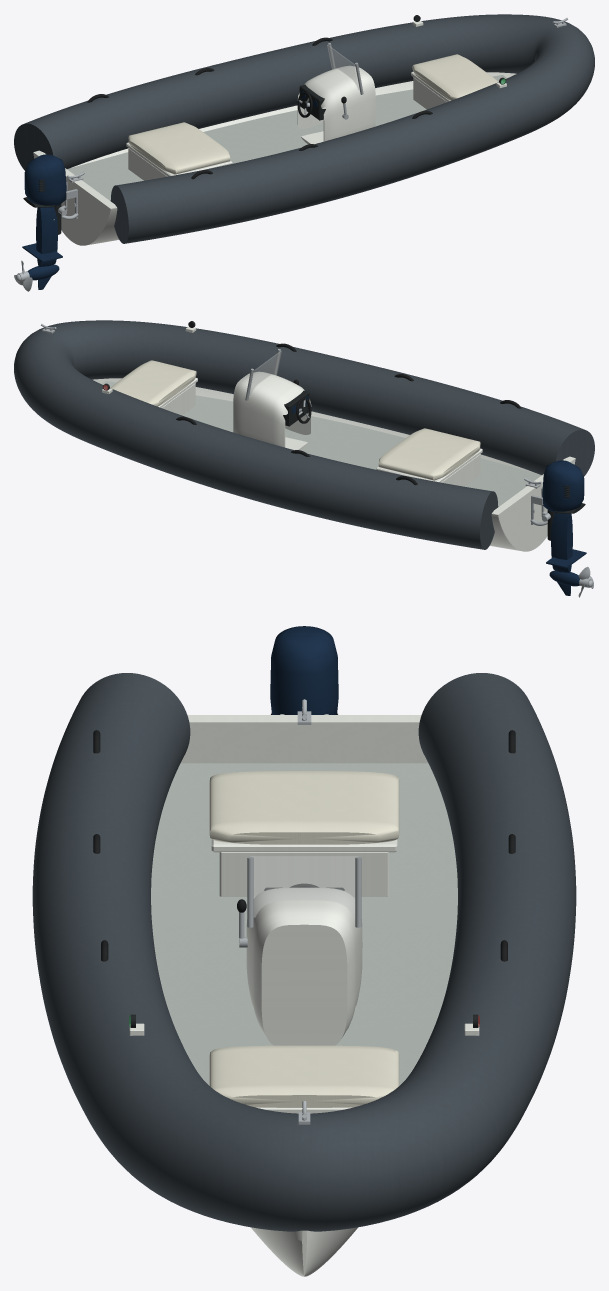
File: innerscene_rib.glb
3 views of the same model, one above another, from view 1: azimuth 30°, elevation 25°; view 2: azimuth 150°, elevation 25°; view 3: azimuth 270°, elevation 25° (orthographic). The views are drawn at different scales.
Visible parts, largest first — view 1: RIB closed inflated U collar, Cockpit profiled structural floor, RIB centre helm hollow shaped console casing, RIB bench-1500 shaped vinyl cushion, RIB hull-profiled reinforced transom, RIB bench1380 shaped vinyl cushion, RIB outboard shaped closed powerhead cowling, RIB finite rigid V-round hull, RIB outboard tapered driveshaft leg, RIB bench-1500 closed locker plinth, RIB bench1380 closed locker plinth, RIB centre helm finite transparent windscreen (+1 smaller); view 2: RIB closed inflated U collar, Cockpit profiled structural floor, RIB centre helm hollow shaped console casing, RIB bench-1500 shaped vinyl cushion, RIB hull-profiled reinforced transom, RIB bench1380 shaped vinyl cushion, RIB outboard shaped closed powerhead cowling, RIB finite rigid V-round hull, RIB outboard tapered driveshaft leg, RIB bench-1500 closed locker plinth, RIB bench1380 closed locker plinth, RIB centre helm finite transparent windscreen (+1 smaller); view 3: RIB closed inflated U collar, Cockpit profiled structural floor, RIB centre helm hollow shaped console casing, RIB bench-1500 shaped vinyl cushion, RIB hull-profiled reinforced transom, RIB bench1380 shaped vinyl cushion, RIB bench-1500 closed locker plinth, RIB outboard shaped closed powerhead cowling, RIB centre helm finite transparent windscreen, RIB finite rigid V-round hull, RIB bench-1500 finite seat pan.
Part boxes in pixels (x1,y1,x2,y2): RIB closed inflated U collar: (14,14,594,243); Cockpit profiled structural floor: (67,75,506,200); RIB centre helm hollow shaped console casing: (297,65,375,144); RIB bench-1500 shaped vinyl cushion: (128,122,230,174); RIB hull-profiled reinforced transom: (33,150,116,245); RIB bench1380 shaped vinyl cushion: (412,54,498,100); RIB outboard shaped closed powerhead cowling: (24,154,66,205); RIB finite rigid V-round hull: (37,72,516,244); RIB outboard tapered driveshaft leg: (36,207,57,266); RIB bench-1500 closed locker plinth: (128,148,167,180); RIB bench1380 closed locker plinth: (413,77,446,109); RIB centre helm finite transparent windscreen: (327,45,359,90); RIB closed inflated U collar: (14,320,594,549); Cockpit profiled structural floor: (102,381,541,506); RIB centre helm hollow shaped console casing: (233,371,311,450); RIB bench-1500 shaped vinyl cushion: (378,428,480,480); RIB hull-profiled reinforced transom: (492,456,575,551); RIB bench1380 shaped vinyl cushion: (110,360,196,406); RIB outboard shaped closed powerhead cowling: (542,460,584,511); RIB finite rigid V-round hull: (92,378,571,550); RIB outboard tapered driveshaft leg: (551,513,572,572); RIB bench-1500 closed locker plinth: (441,454,480,486); RIB bench1380 closed locker plinth: (162,383,195,415); RIB centre helm finite transparent windscreen: (249,351,281,396); RIB closed inflated U collar: (32,673,576,1231); Cockpit profiled structural floor: (151,763,457,1085); RIB centre helm hollow shaped console casing: (246,887,362,1045); RIB bench-1500 shaped vinyl cushion: (209,771,399,844); RIB hull-profiled reinforced transom: (181,715,427,763); RIB bench1380 shaped vinyl cushion: (209,1045,399,1107); RIB bench-1500 closed locker plinth: (219,852,389,896); RIB outboard shaped closed powerhead cowling: (270,626,338,714); RIB centre helm finite transparent windscreen: (250,856,358,917); RIB finite rigid V-round hull: (251,1227,357,1276); RIB bench-1500 finite seat pan: (211,839,397,852).
Size of the model in its own units: 5.89 by 1.61 by 2.43.
Materials: 14 (14 with a texture image).
